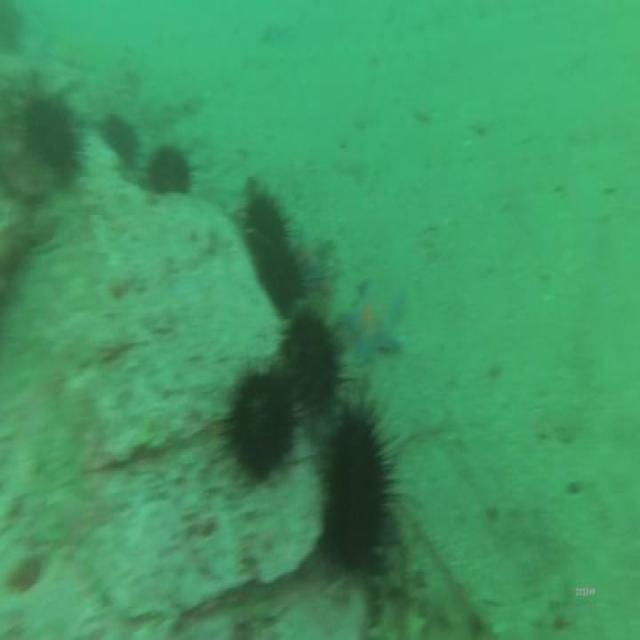echinus: (333, 412, 387, 568), (232, 373, 289, 463), (292, 319, 335, 406), (27, 96, 73, 169), (239, 184, 283, 246), (260, 251, 298, 307), (151, 147, 191, 196), (106, 117, 138, 167)
holothurian: (369, 530, 397, 638)
starfish: (345, 291, 403, 360)
